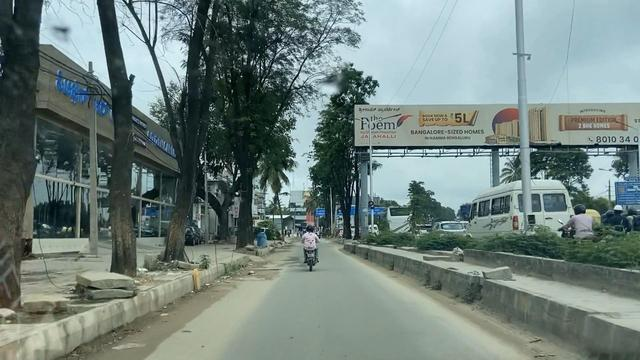RoadDamages: (227, 260, 280, 286), (114, 338, 142, 356)
